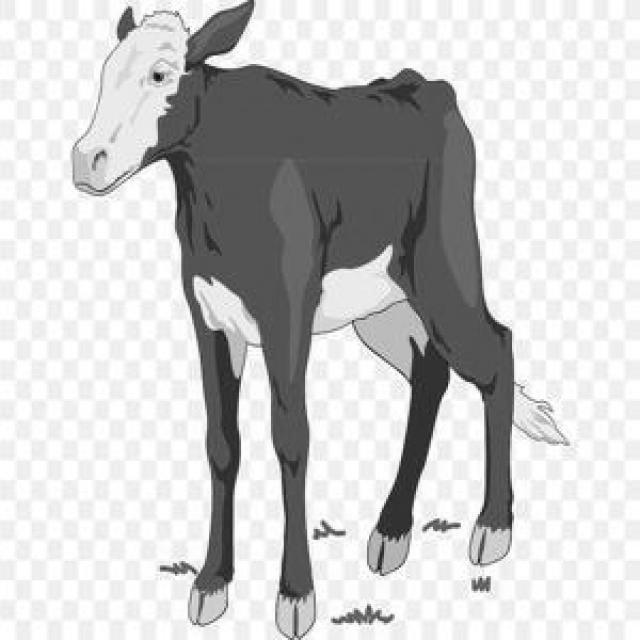cow: (72, 0, 568, 640)
